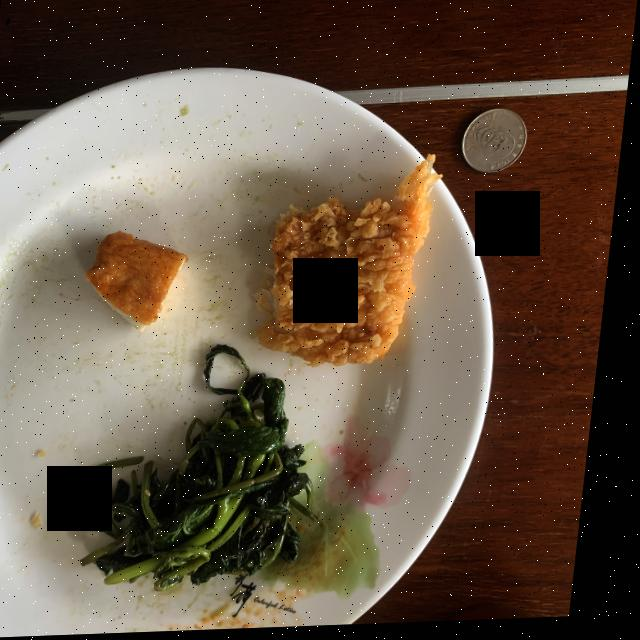coin: (464, 112, 529, 177)
creamy tofu: (91, 232, 193, 333)
fried chicken cutlet: (262, 159, 444, 369)
sweet potato leaves: (76, 347, 327, 593)
